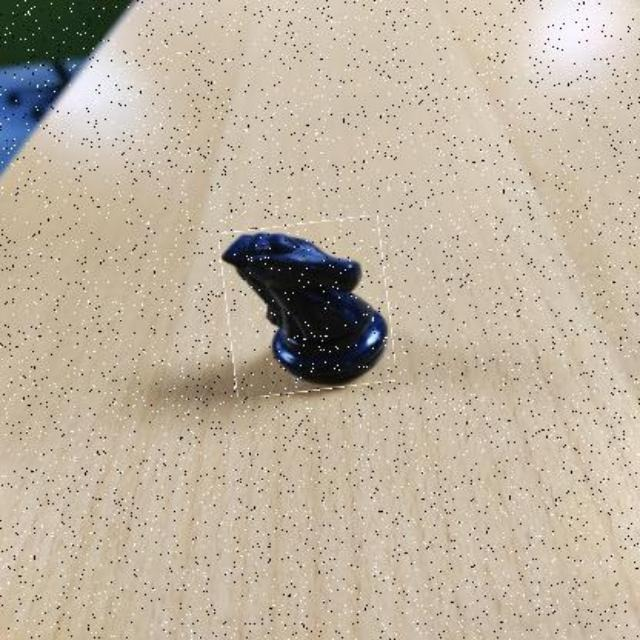black-knight: (223, 221, 392, 394)
